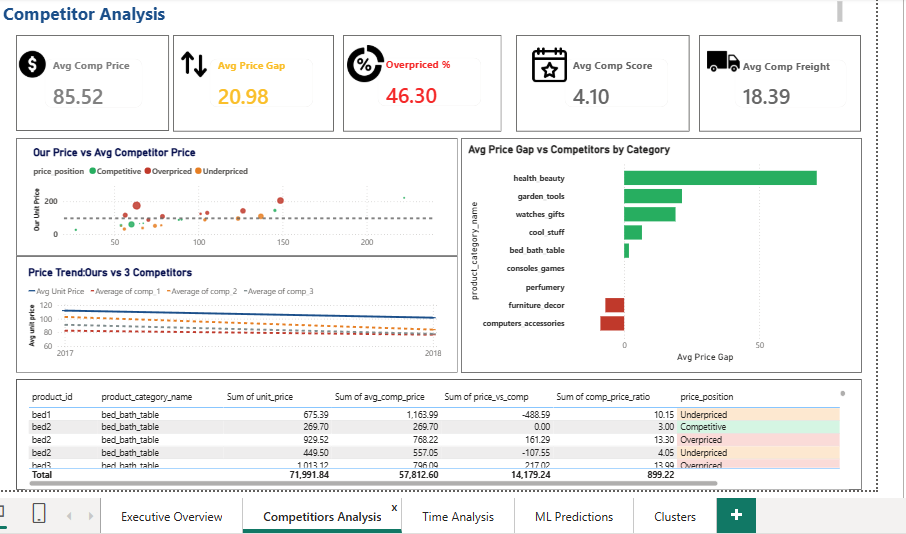

The page's visual inventory and layout, read from the dashboard file:
{"tool":"powerbi","page":{"name":"Competitiors Analysis","canvas":[1366,768],"ordinal":1},"visuals":[{"type":"shape","box":[25.5,594.5,1320.4,173.3],"z":0},{"type":"shape","box":[720.4,218.9,625.6,366.6],"z":1000},{"type":"shape","box":[25.5,218.9,689.4,184.2],"z":2000},{"type":"textbox","box":[0,0,1320,44],"z":3000},{"type":"shape","box":[270.7,57.4,251,150.6],"z":4000},{"type":"shape","box":[25.5,58.4,238.9,149.5],"z":5000},{"type":"shape","box":[536,57.4,247.4,150.6],"z":6000},{"type":"shape","box":[804.9,57.4,270.7,150.6],"z":7000},{"type":"shape","box":[1091.7,57.4,252.8,150.6],"z":8000},{"type":"cardVisual","fields":{"Data":["ecommerce_final (1).Avg Price Gap"]},"box":[309.1,76.5,198.2,112.4],"z":9000},{"type":"cardVisual","fields":{"Data":["ecommerce_final (1).Overpriced %"]},"box":[571.3,74.9,198.2,112.4],"z":10000},{"type":"cardVisual","fields":{"Data":["ecommerce_final (1).Avg Comp Score"]},"box":[863.2,76.5,198.2,112.4],"z":11000},{"type":"cardVisual","fields":{"Data":["ecommerce_final (1).Avg Comp Freight"]},"box":[1128.9,78.4,211.6,111.2],"z":12000},{"type":"cardVisual","fields":{"Data":["ecommerce_final (1).Avg Comp Price"]},"box":[51.1,76.6,189.7,113.1],"z":13000},{"type":"scatterChart","title":"Our Price vs Avg Competitor Price","fields":{"X":["Avg(ecommerce_final (1).avg_comp_price)"],"Y":["Avg(ecommerce_final (1).unit_price)"],"Size":["Sum(ecommerce_final (1).total_price)"],"Category":["ecommerce_final (1).product_category_name"],"Series":["ecommerce_final (1).price_position"]},"box":[47.4,231.6,645.6,167.8],"z":14000},{"type":"shape","box":[25.5,403.1,689.4,182.4],"z":15000},{"type":"barChart","title":"Avg Price Gap vs Competitors by Category","fields":{"Category":["ecommerce_final (1).product_category_name"],"Y":["ecommerce_final (1).Avg Price Gap"]},"box":[725.9,226.1,598.2,346.5],"z":16000},{"type":"lineChart","title":"Price Trend:Ours vs 3 Competitors","fields":{"Category":["ecommerce_final (1).date.Variation.Date Hierarchy.Year","ecommerce_final (1).date.Variation.Date Hierarchy.Month","ecommerce_final (1).date.Variation.Date Hierarchy.Day"],"Y":["ecommerce_final (1).Avg Unit Price","Avg(ecommerce_final (1).comp_1)","Avg(ecommerce_final (1).comp_2)","Avg(ecommerce_final (1).comp_3)"]},"box":[38.3,417.6,654.7,155],"z":17000},{"type":"tableEx","fields":{"Values":["ecommerce_final (1).product_id","ecommerce_final (1).product_category_name","Sum(ecommerce_final (1).unit_price)","Sum(ecommerce_final (1).avg_comp_price)","Sum(ecommerce_final (1).price_vs_comp)","Sum(ecommerce_final (1).comp_price_ratio)","ecommerce_final (1).price_position"]},"box":[38.3,607.3,1285.8,160.5],"z":18000},{"type":"image","box":[14.6,74.8,73,56.5],"z":19000},{"type":"image","box":[264.4,73,78.4,60.2],"z":20000},{"type":"image","box":[530.7,73,80.2,58.4],"z":21000},{"type":"image","box":[804.3,73,107.6,62],"z":22000},{"type":"image","box":[1092.4,73,73,51.1],"z":23000}]}

Visuals, with their boxes on the page's 1366x768 design canvas (x1, y1, x2, y2). These are canvas units, not pixel positions in the 906x534 screenshot, which may show the page scaled, cropped or inside an application window:
shape: (left=26, top=594, right=1346, bottom=768)
shape: (left=720, top=219, right=1346, bottom=586)
shape: (left=26, top=219, right=715, bottom=403)
textbox: (left=0, top=0, right=1320, bottom=44)
shape: (left=271, top=57, right=522, bottom=208)
shape: (left=26, top=58, right=264, bottom=208)
shape: (left=536, top=57, right=783, bottom=208)
shape: (left=805, top=57, right=1076, bottom=208)
shape: (left=1092, top=57, right=1344, bottom=208)
cardVisual - ecommerce_final (1).Avg Price Gap: (left=309, top=76, right=507, bottom=189)
cardVisual - ecommerce_final (1).Overpriced %: (left=571, top=75, right=770, bottom=187)
cardVisual - ecommerce_final (1).Avg Comp Score: (left=863, top=76, right=1061, bottom=189)
cardVisual - ecommerce_final (1).Avg Comp Freight: (left=1129, top=78, right=1340, bottom=190)
cardVisual - ecommerce_final (1).Avg Comp Price: (left=51, top=77, right=241, bottom=190)
"Our Price vs Avg Competitor Price" scatterChart: (left=47, top=232, right=693, bottom=399)
shape: (left=26, top=403, right=715, bottom=586)
"Avg Price Gap vs Competitors by Category" barChart: (left=726, top=226, right=1324, bottom=573)
"Price Trend:Ours vs 3 Competitors" lineChart: (left=38, top=418, right=693, bottom=573)
tableEx - ecommerce_final (1).product_id x ecommerce_final (1).product_category_name: (left=38, top=607, right=1324, bottom=768)
image: (left=15, top=75, right=88, bottom=131)
image: (left=264, top=73, right=343, bottom=133)
image: (left=531, top=73, right=611, bottom=131)
image: (left=804, top=73, right=912, bottom=135)
image: (left=1092, top=73, right=1165, bottom=124)
